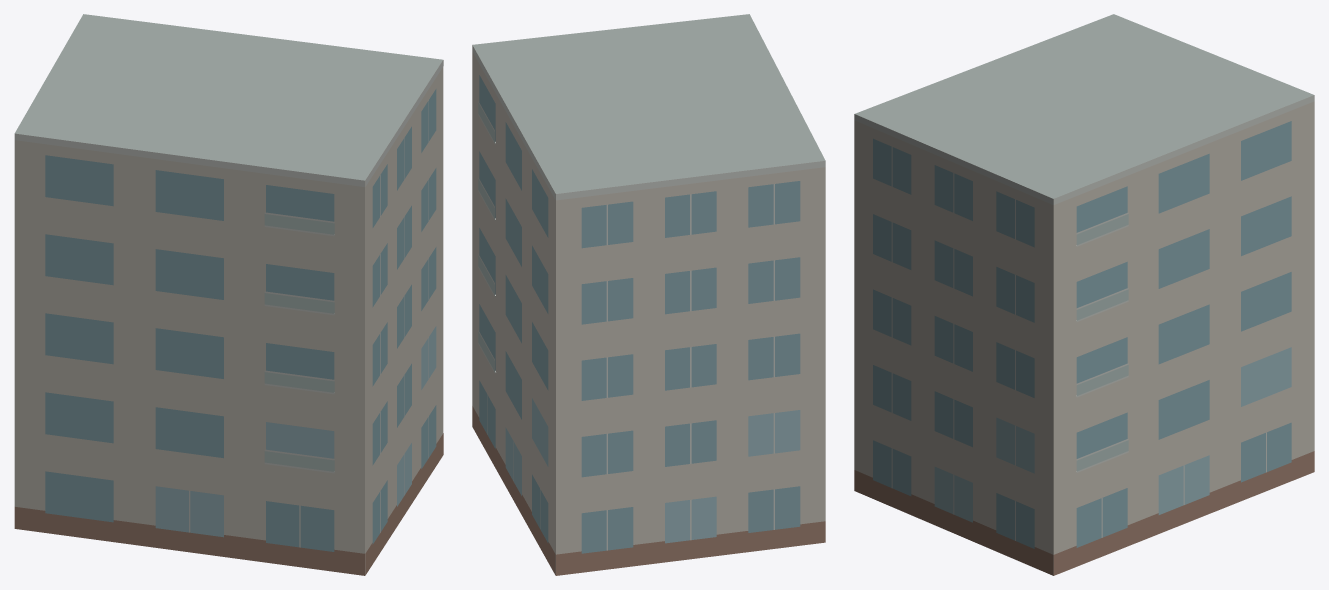
The model's file is survey-upis-32689941.glb.
The picture shows the model from 3 angles, left to right: view 1: azimuth 30°, elevation 25°; view 2: azimuth 150°, elevation 25°; view 3: azimuth 270°, elevation 25°; orthographic projection. The views are drawn at different scales.
Visible parts, largest first — view 1: survey-upis-32689941.tmp; view 2: survey-upis-32689941.tmp; view 3: survey-upis-32689941.tmp.
Boxes of the visible parts, left/top/right/bottom form: survey-upis-32689941.tmp: left=14, top=14, right=443, bottom=575; survey-upis-32689941.tmp: left=472, top=14, right=825, bottom=575; survey-upis-32689941.tmp: left=854, top=14, right=1314, bottom=575.
Bounding box in the file's own units: 15.37 × 14.6 × 16.16.
